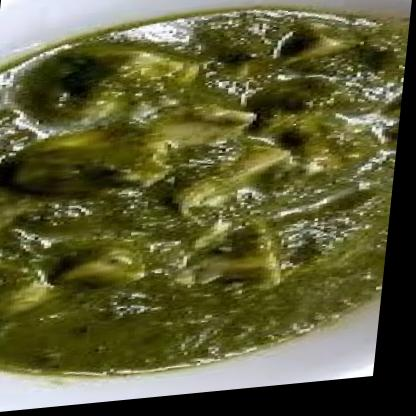palak_paneer: (0, 2, 413, 390)
